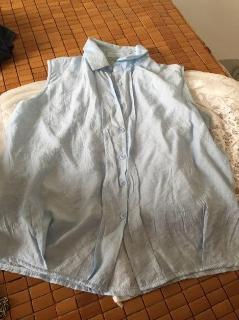vest dress: (0, 37, 239, 297)
